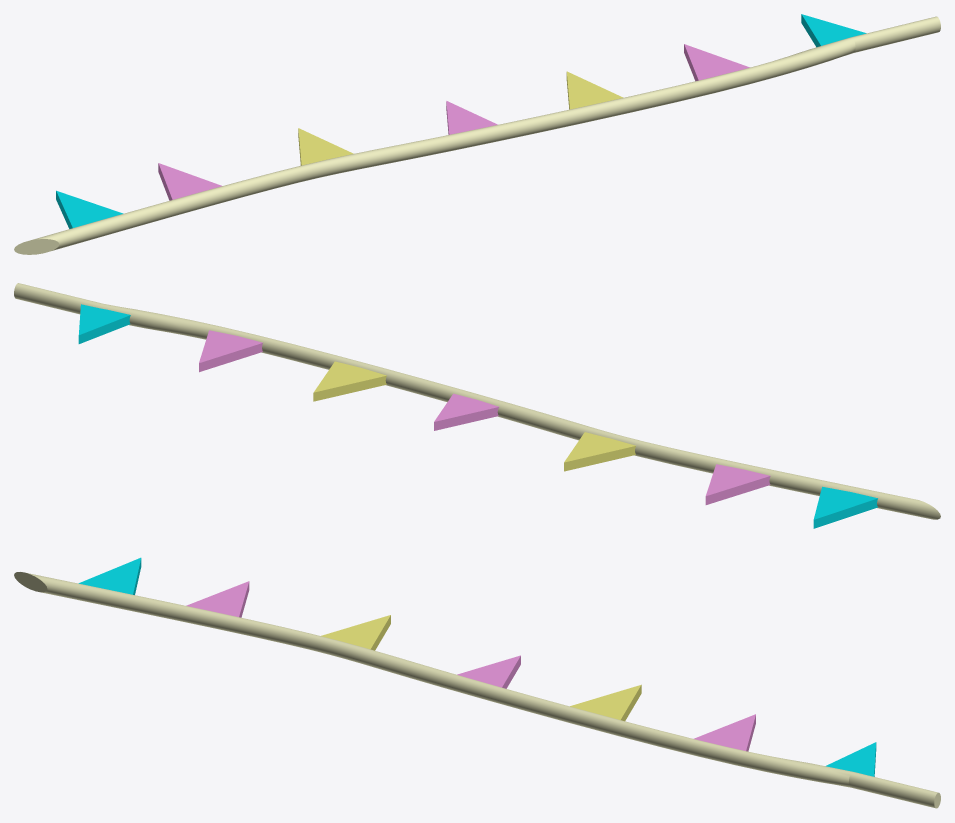
File: bunting.fbx
The picture shows the model from 3 angles, top to bottom: view 1: azimuth 30°, elevation 25°; view 2: azimuth 150°, elevation 25°; view 3: azimuth 330°, elevation 25°; orthographic projection.
Visible parts, largest first — view 1: pCylinder7; view 2: pCylinder7; view 3: pCylinder7.
Part boxes in pixels (bbox=[...]): pCylinder7: bbox=[14, 14, 940, 254]; pCylinder7: bbox=[14, 283, 940, 528]; pCylinder7: bbox=[14, 557, 940, 808].
Size of the model in its own units: 23.62 by 0.37 by 2.49.
